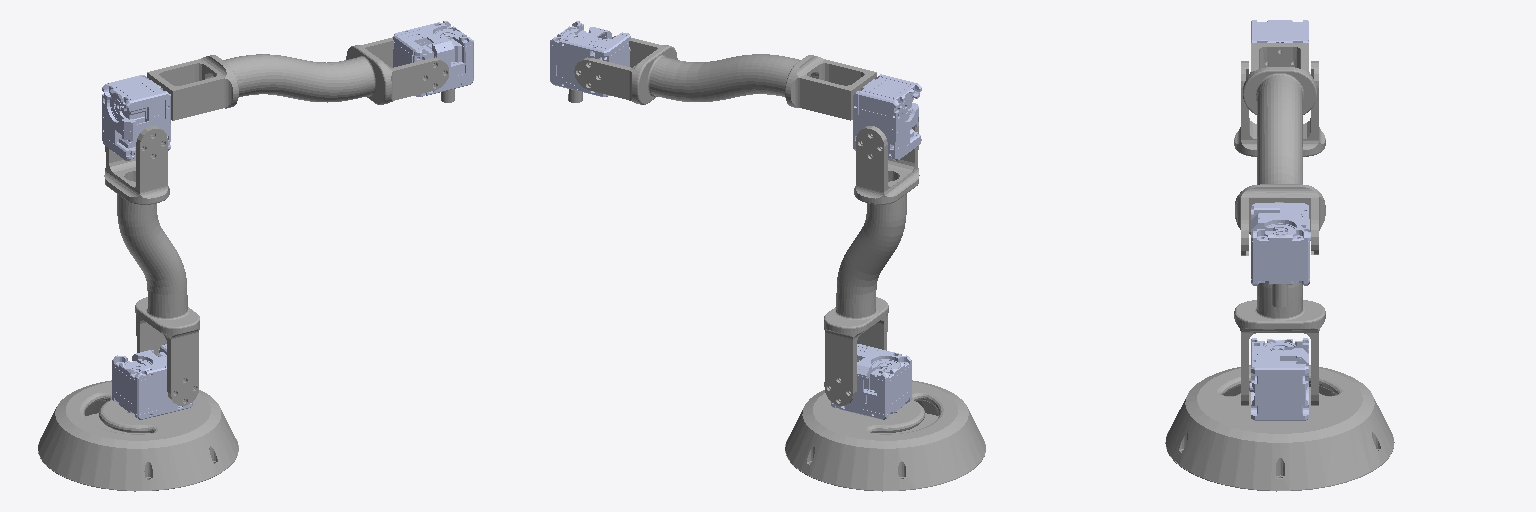
robot.urdf — manipulator_main:
<?xml version="1.0" ?>
<!-- =================================================================================== -->
<!-- |    This document was autogenerated by xacro from [local-path]/catkin_ws/src/manipulator/manipulator_gazebo/urdf/manipulator_main.xacro | -->
<!-- |    EDITING THIS FILE BY HAND IS NOT RECOMMENDED                                 | -->
<!-- =================================================================================== -->
<robot name="manipulator_main">
    <!-- Links del robot -->
    <link name="base_link">
        <inertial>
            <origin rpy="0 0 0" xyz="0.001243 9.6973E-06 0.018348" />
            <mass value="0.14032" />
            <inertia ixx="224200000" ixy="-102530000" ixz="10964000" iyy="935460000" iyz="-533770" izz="777040000" />
        </inertial>
        <visual>
            <origin rpy="0 0 0" xyz="0 0 0" />
            <geometry>
                <mesh filename="package://manipulator_description/meshes/base_link.STL" />
            </geometry>
            <material name="">
                <color rgba="0.69804 0.69804 0.69804 1" />
            </material>
        </visual>
        <collision>
            <origin rpy="0 0 0" xyz="0 0 0" />
            <geometry>
                <mesh filename="package://manipulator_description/meshes/base_link.STL" />
            </geometry>
        </collision>
    </link>
    <link name="link_1">
        <inertial>
            <origin rpy="0 0 0" xyz="0.012 -0.00063149 0.0083979" />
            <mass value="0.05168" />
            <inertia ixx="26860" ixy="525.09" ixz="287.62" iyy="16993" iyz="-523.85" izz="26995" />
        </inertial>
        <visual>
            <origin rpy="0 0 0" xyz="0 0 0" />
            <geometry>
                <mesh filename="package://manipulator_description/meshes/link_1.STL" />
            </geometry>
            <material name="">
                <color rgba="0.79216 0.81961 0.93333 1" />
            </material>
        </visual>
        <collision>
            <origin rpy="0 0 0" xyz="0 0 0" />
            <geometry>
                <mesh filename="package://manipulator_description/meshes/link_1.STL" />
            </geometry>
        </collision>
    </link>
    <link name="link_2">
        <inertial>
            <origin rpy="0 0 0" xyz="-0.011752 -0.099865 -0.019" />
            <mass value="0.10228" />
            <inertia ixx="512810000" ixy="108850000" ixz="380" iyy="56237000" iyz="2370" izz="523870000" />
        </inertial>
        <visual>
            <origin rpy="0 0 0" xyz="0 0 0" />
            <geometry>
                <mesh filename="package://manipulator_description/meshes/link_2.STL" />
            </geometry>
            <material name="">
                <color rgba="0.69804 0.69804 0.69804 1" />
            </material>
        </visual>
        <collision>
            <origin rpy="0 0 0" xyz="0 0 0" />
            <geometry>
                <mesh filename="package://manipulator_description/meshes/link_2.STL" />
            </geometry>
        </collision>
    </link>
    <link name="link_3">
        <inertial>
            <origin rpy="0 0 0" xyz="0.00063139 0.012 -0.00063149" />
            <mass value="0.05168" />
            <inertia ixx="26860" ixy="525.09" ixz="287.62" iyy="16993" iyz="-523.85" izz="26995" />
        </inertial>
        <visual>
            <origin rpy="0 0 0" xyz="0 0 0" />
            <geometry>
                <mesh filename="package://manipulator_description/meshes/link_3.STL" />
            </geometry>
            <material name="">
                <color rgba="0.79216 0.81961 0.93333 1" />
            </material>
        </visual>
        <collision>
            <origin rpy="0 0 0" xyz="0 0 0" />
            <geometry>
                <mesh filename="package://manipulator_description/meshes/link_3.STL" />
            </geometry>
        </collision>
    </link>
    <link name="link_4">
        <inertial>
            <origin rpy="0 0 0" xyz="-0.00050964 -0.011144 0.1062" />
            <mass value="0.10507" />
            <inertia ixx="1573100000" ixy="195670000" ixz="40" iyy="51205000" iyz="1350" izz="1589800000" />
        </inertial>
        <visual>
            <origin rpy="0 0 0" xyz="0 0 0" />
            <geometry>
                <mesh filename="package://manipulator_description/meshes/link_4.STL" />
            </geometry>
            <material name="">
                <color rgba="0.69804 0.69804 0.69804 1" />
            </material>
        </visual>
        <collision>
            <origin rpy="0 0 0" xyz="0 0 0" />
            <geometry>
                <mesh filename="package://manipulator_description/meshes/link_4.STL" />
            </geometry>
        </collision>
    </link>
    <link name="link_5">
        <inertial>
            <origin rpy="0 0 0" xyz="0.00054632 0.012004 -0.00063149" />
            <mass value="0.05168" />
            <inertia ixx="26860" ixy="525.09" ixz="287.62" iyy="16993" iyz="-523.85" izz="26995" />
        </inertial>
        <visual>
            <origin rpy="0 0 0" xyz="0 0 0" />
            <geometry>
                <mesh filename="package://manipulator_description/meshes/link_5.STL" />
            </geometry>
            <material name="">
                <color rgba="0.79216 0.81961 0.93333 1" />
            </material>
        </visual>
        <collision>
            <origin rpy="0 0 0" xyz="0 0 0" />
            <geometry>
                <mesh filename="package://manipulator_description/meshes/link_5.STL" />
            </geometry>
        </collision>
    </link>
    <link name="link_6">
        <inertial>
            <origin rpy="0 0 0" xyz="9.9252E-09 -4.0368E-07 0.018675" />
            <mass value="0.006005" />
            <inertia ixx="3316900" ixy="-10" ixz="0" iyy="3315500" iyz="0" izz="185540" />
        </inertial>
        <visual>
            <origin rpy="0 0 0" xyz="0 0 0" />
            <geometry>
                <cylinder radius="0.005" length="0.0313"/>
            </geometry>
            <material name="">
                <color rgba="0.69804 0.69804 0.69804 1" />
            </material>
        </visual>
        <collision>
            <origin rpy="0 0 0" xyz="0 0 0" />
            <geometry>
                <cylinder radius="0.005" length="0.0313"/>
            </geometry>
        </collision>
    </link>
    <!-- Juntas del Robot -->
    <joint name="joint_1" type="revolute">
        <origin rpy="0 0 0" xyz="0 0 0.039971" />
        <parent link="base_link" />
        <child link="link_1" />
        <axis xyz="0 0 1" />
        <limit effort="700" lower="-3.14" upper="3.14" velocity="2" />
        <dynamics damping="0.0" friction="0.0" />
    </joint>
    <joint name="joint_2" type="revolute">
        <origin rpy="-1.5708 -0.0070881 0" xyz="0.024 0.019 0.0090292" />
        <parent link="link_1" />
        <child link="link_2" />
        <axis xyz="0 0 1" />
        <limit effort="600" lower="-1.57" upper="1.57" velocity="2" />
        <dynamics damping="0.0" friction="0.0" />
    </joint>
    <joint name="joint_3" type="revolute">
        <origin rpy="3.1416 0 0" xyz="-0.024 -0.195 -0.019" />
        <parent link="link_2" />
        <child link="link_3" />
        <axis xyz="0 0 1" />
        <limit effort="300" lower="-1.20" upper="3.14" velocity="2" />
        <dynamics damping="0.0" friction="0.0" />
    </joint>
    <joint name="joint_4" type="revolute">
        <origin rpy="3.1416 1.5656 3.1345" xyz="0.019 0.024 0" />
        <parent link="link_3" />
        <child link="link_4" />
        <axis xyz="0 0 1" />
        <limit effort="100" lower="-3.14" upper="3.14" velocity="2" />
        <dynamics damping="0.0" friction="0.0" />
    </joint>
    <joint name="joint_5" type="revolute">
        <origin rpy="-1.57 3.14  1.57" xyz="-0.00099824 -0.022521 0.20866" />
        <parent link="link_4" />
        <child link="link_5" />
        <axis xyz="0 0 1" />
        <limit effort="60" lower="-3.14" upper="1.57" velocity="2" />
        <dynamics damping="0.0" friction="0.0" />
    </joint>
    <joint name="joint_6" type="revolute">
        <origin rpy="-1.5708 1.5312 -1.5637" xyz="0.01883 0.02412 0" />
        <parent link="link_5" />
        <child link="link_6" />
        <axis xyz="0 0 1" />
        <limit effort="30" lower="-3.14" upper="3.14" velocity="2" />
        <dynamics damping="0.0" friction="0.0" />
    </joint>
    <!-- transmission list -->
    <transmission name="link_1_trans">
        <type>transmission_interface/SimpleTransmission</type>
        <joint name="joint_1">
            <hardwareInterface>hardware_interface/PositionJointInterface</hardwareInterface>
        </joint>
        <actuator name="link_1_motor">
            <hardwareInterface>hardware_interface/PositionJointInterface</hardwareInterface>
            <mechanicalReduction>1</mechanicalReduction>
        </actuator>
    </transmission>
    <transmission name="link_2_trans">
        <type>transmission_interface/SimpleTransmission</type>
        <joint name="joint_2">
            <hardwareInterface>hardware_interface/PositionJointInterface</hardwareInterface>
        </joint>
        <actuator name="link_2_motor">
            <hardwareInterface>hardware_interface/PositionJointInterface</hardwareInterface>
            <mechanicalReduction>1</mechanicalReduction>
        </actuator>
    </transmission>
    <transmission name="link_3_trans">
        <type>transmission_interface/SimpleTransmission</type>
        <joint name="joint_3">
            <hardwareInterface>hardware_interface/PositionJointInterface</hardwareInterface>
        </joint>
        <actuator name="link_3_motor">
            <hardwareInterface>hardware_interface/PositionJointInterface</hardwareInterface>
            <mechanicalReduction>1</mechanicalReduction>
        </actuator>
    </transmission>
    <transmission name="link_4_trans">
        <type>transmission_interface/SimpleTransmission</type>
        <joint name="joint_4">
            <hardwareInterface>hardware_interface/PositionJointInterface</hardwareInterface>
        </joint>
        <actuator name="link_4_motor">
            <hardwareInterface>hardware_interface/PositionJointInterface</hardwareInterface>
            <mechanicalReduction>1</mechanicalReduction>
        </actuator>
    </transmission>
    <transmission name="link_5_trans">
        <type>transmission_interface/SimpleTransmission</type>
        <joint name="joint_5">
            <hardwareInterface>hardware_interface/PositionJointInterface</hardwareInterface>
        </joint>
        <actuator name="link_5_motor">
            <hardwareInterface>hardware_interface/PositionJointInterface</hardwareInterface>
            <mechanicalReduction>1</mechanicalReduction>
        </actuator>
    </transmission>
    <transmission name="link_6_trans">
        <type>transmission_interface/SimpleTransmission</type>
        <joint name="joint_6">
            <hardwareInterface>hardware_interface/PositionJointInterface</hardwareInterface>
        </joint>
        <actuator name="link_6_motor">
            <hardwareInterface>hardware_interface/PositionJointInterface</hardwareInterface>
            <mechanicalReduction>1</mechanicalReduction>
        </actuator>
    </transmission>
    <!-- end of transmission list -->
    <!-- Gazebo-specific link properties -->
    <gazebo reference="link_1">
        <selfCollide>true</selfCollide>
        <material>Gazebo/Black</material>
        <plugin name="gazebo_ros_control">
            <robotNamespace>/</robotNamespace>
        </plugin>
    </gazebo>
    <gazebo reference="link_2">
        <selfCollide>true</selfCollide>
        <material>Gazebo/Orange</material>
    </gazebo>
    <gazebo reference="link_3">
        <selfCollide>true</selfCollide>
        <material>Gazebo/Black</material>
    </gazebo>
    <gazebo reference="link_4">
        <selfCollide>true</selfCollide>
        <material>Gazebo/Orange</material>
    </gazebo>
    <gazebo reference="link_5">
        <selfCollide>true</selfCollide>
        <material>Gazebo/Black</material>
    </gazebo>
    <gazebo reference="link_6">
        <selfCollide>true</selfCollide>
    </gazebo>
    <!-- ros_control plugin -->
    <gazebo>
        <plugin filename="libgazebo_ros_control.so" name="control">
            <robotNamespace>/</robotNamespace>
        </plugin>
    </gazebo>
    <!-- Fix robot to Gazebo world -->
    <link name="world" />
    <joint name="world-base_link-fixed" type="fixed">
        <parent link="world" />
        <child link="base_link" />
        <origin rpy="0.0 0.0 0.0" xyz="0.0 0.0 0.0" />
    </joint>
</robot>

--- Render facts (derived) ---
The picture shows the robot from 3 angles, left to right: view 1: azimuth 30°, elevation 25°; view 2: azimuth 150°, elevation 25°; view 3: azimuth 270°, elevation 25°; orthographic projection.
Model manipulator_main with 8 links and 7 joints (6 revolute, 1 fixed), rooted at world, posed all joints at 0.
Links seen in each view (by area): view 1: base_link, link_4, link_2, link_3, link_1, link_5; view 2: base_link, link_4, link_2, link_3, link_1, link_5; view 3: base_link, link_4, link_2, link_5, link_1, link_3.
Link boxes in pixels (x1,y1,x2,y2): base_link: (38, 380, 238, 491); link_4: (147, 37, 448, 120); link_2: (104, 126, 199, 405); link_3: (102, 75, 170, 160); link_1: (112, 344, 192, 419); link_5: (393, 21, 473, 96); base_link: (785, 380, 985, 491); link_4: (574, 36, 876, 120); link_2: (824, 126, 919, 405); link_3: (853, 74, 921, 160); link_1: (831, 344, 911, 419); link_5: (550, 21, 630, 96); base_link: (1165, 365, 1394, 491); link_4: (1235, 43, 1325, 255); link_2: (1234, 61, 1325, 405); link_5: (1251, 203, 1310, 285); link_1: (1249, 338, 1308, 420); link_3: (1251, 20, 1308, 42).
Bounding box of the posed robot: 0.3319 × 0.141 × 0.2848 m (x, y, z).
Meshes: 6 distinct files referenced, 6 mesh visuals loaded (6 binary STL).
